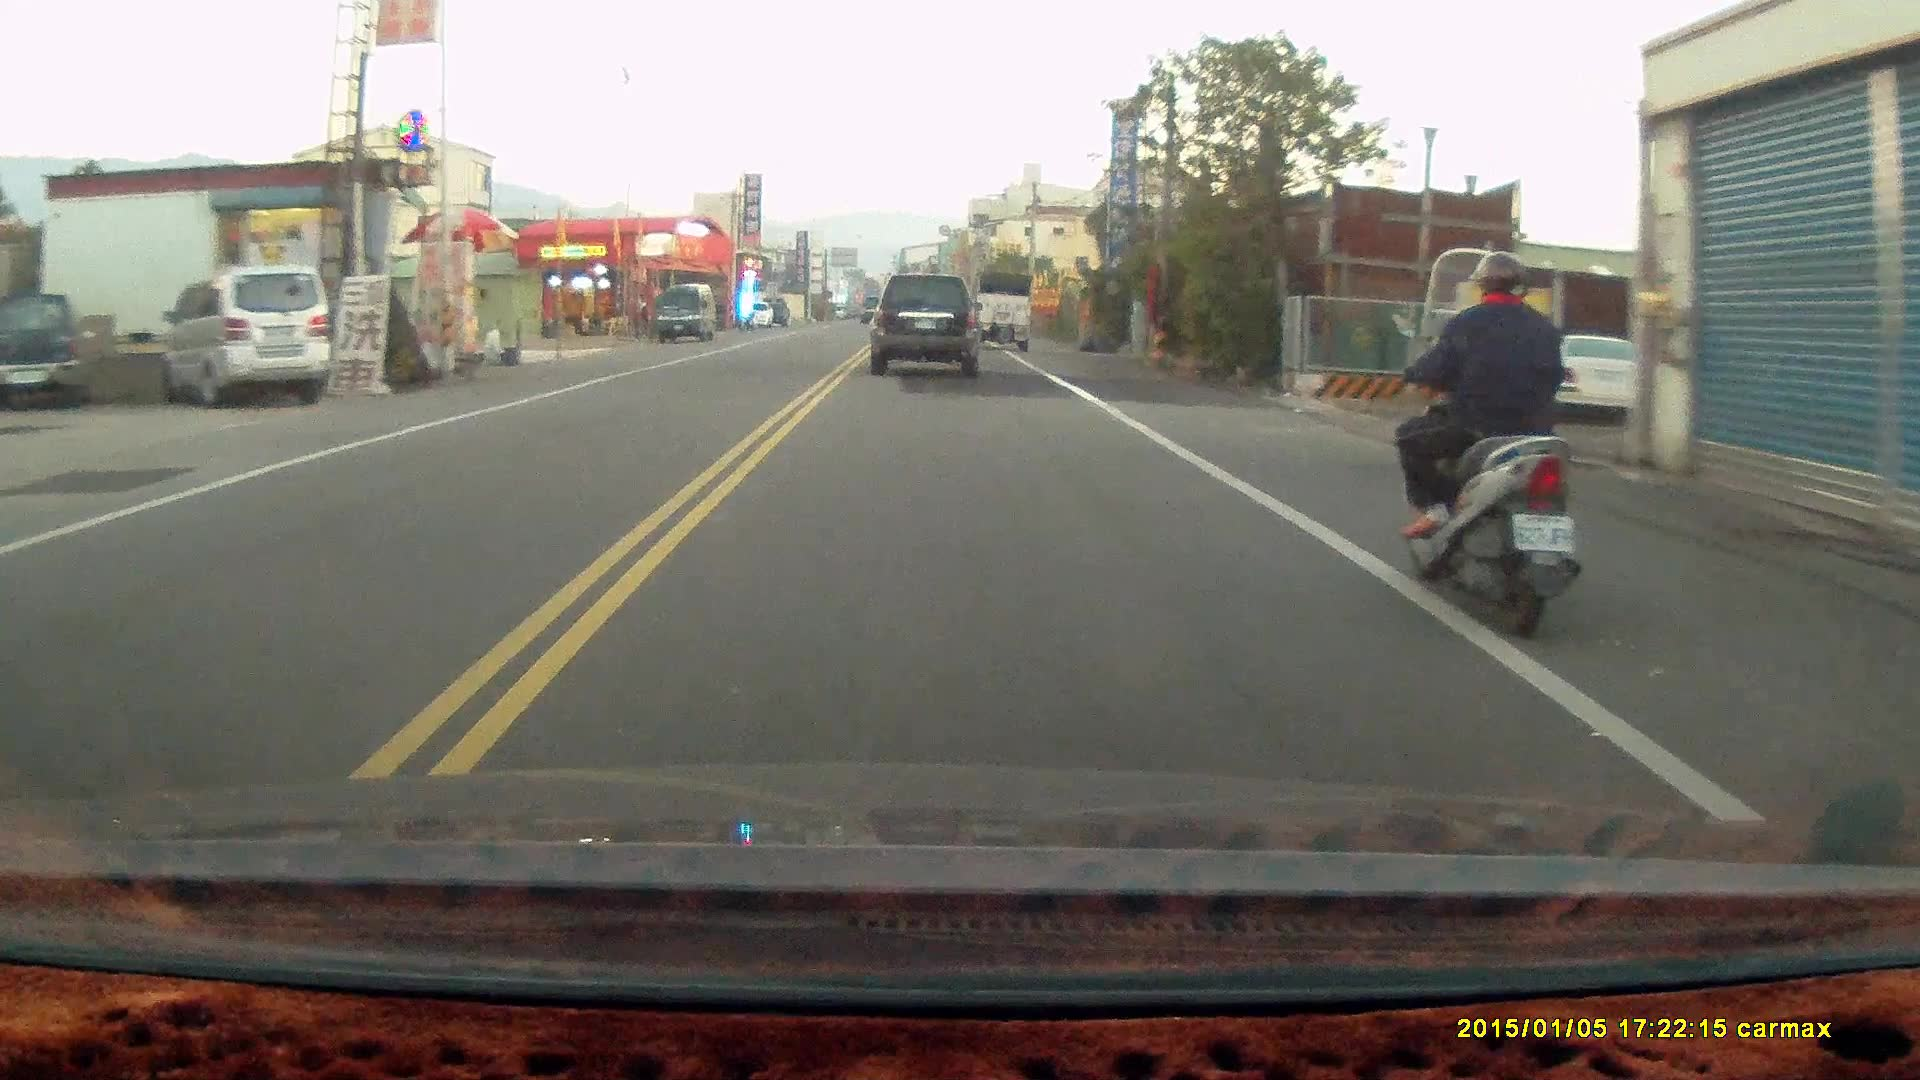rider: (1389, 248, 1582, 644)
vehicle: (165, 266, 336, 412), (872, 273, 982, 378), (1, 296, 85, 411), (973, 272, 1035, 352), (656, 284, 717, 346)
